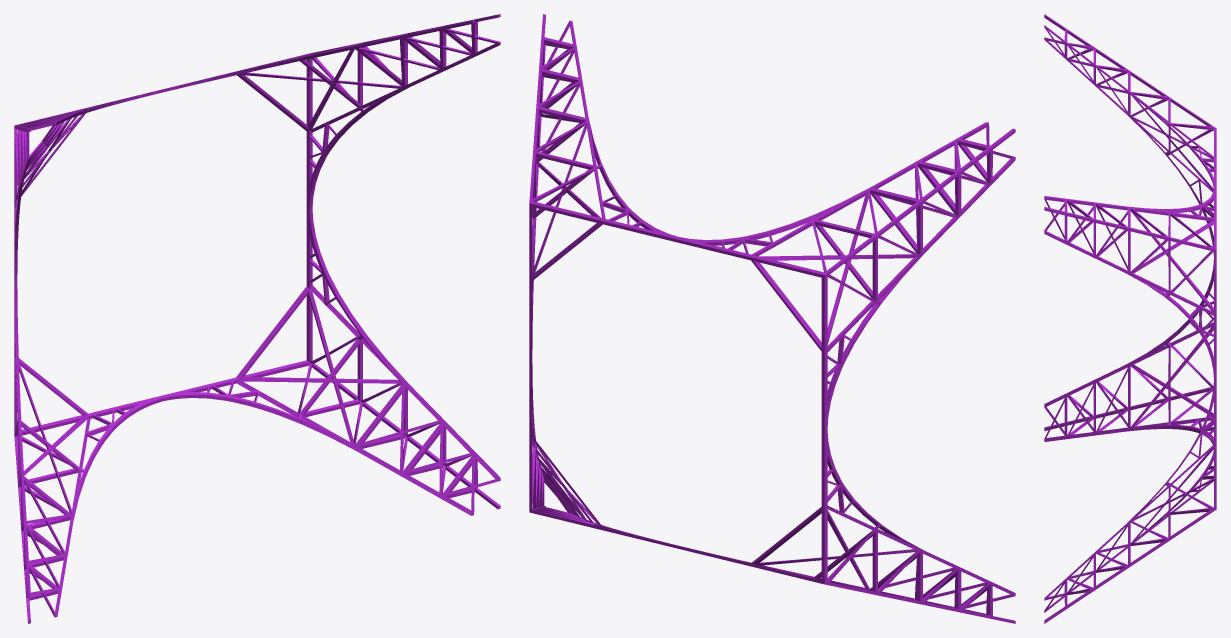
Rendered from tower_05.glb.
3 renders of one model, left to right at view 1: azimuth 30°, elevation 25°; view 2: azimuth 150°, elevation 25°; view 3: azimuth 270°, elevation 25°, orthographic. The views are drawn at different scales.
Parts seen in each view (by area): view 1: H3; view 2: H3; view 3: H3.
Boxes of the visible parts, bbox=[...] form: H3: bbox=[14, 14, 500, 623]; H3: bbox=[529, 14, 1015, 623]; H3: bbox=[1044, 14, 1216, 623].
Size of the model in its own units: 8 by 8 by 3.
